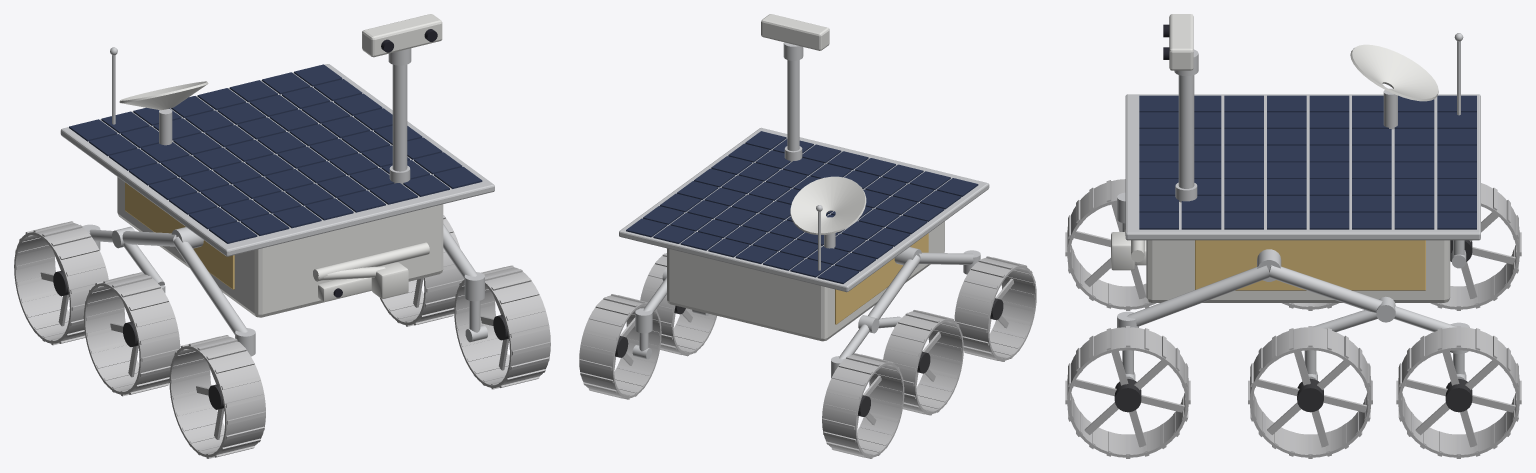
The model's file is rover.glb.
3 views of the same model, side by side, from view 1: azimuth 30°, elevation 25°; view 2: azimuth 150°, elevation 25°; view 3: azimuth 270°, elevation 25° (orthographic). The views are drawn at different scales.
Visible parts, largest first — view 1: solar_cells, chassis, wheel_LF, wheel_LM, wheel_RF, wheel_LR, solar_frame, suspension, front_equipment, wheel_RM, chassis_mli, mast (+3 smaller); view 2: solar_cells, chassis, wheel_LR, wheel_LF, wheel_RR, solar_frame, wheel_LM, suspension, hga_dish, wheel_RM, chassis_mli, mast (+1 smaller); view 3: solar_cells, solar_frame, chassis_mli, wheel_RF, wheel_RR, wheel_RM, suspension, chassis, wheel_LF, wheel_LR, hga_dish, mast (+3 smaller).
Part boxes in pixels (box(x1,y1,x2,y2)): solar_cells: box(69, 64, 482, 243); chassis: box(117, 177, 443, 317); wheel_LF: box(169, 335, 265, 458); wheel_LM: box(83, 272, 180, 396); wheel_RF: box(454, 265, 550, 389); wheel_LR: box(14, 221, 108, 345); solar_frame: box(60, 64, 494, 256); suspension: box(82, 224, 487, 356); front_equipment: box(313, 242, 429, 301); wheel_RM: box(380, 215, 464, 326); chassis_mli: box(125, 182, 234, 289); mast: box(388, 48, 411, 184); solar_cells: box(626, 131, 978, 283); chassis: box(667, 221, 944, 341); wheel_LR: box(822, 353, 904, 458); wheel_LF: box(954, 256, 1036, 361); wheel_RR: box(579, 294, 661, 399); solar_frame: box(619, 127, 989, 292); wheel_LM: box(883, 310, 963, 415); suspension: box(632, 247, 980, 377); hga_dish: box(790, 176, 866, 234); wheel_RM: box(640, 253, 716, 356); chassis_mli: box(835, 233, 928, 324); mast: box(783, 42, 803, 162); solar_cells: box(1139, 95, 1476, 229); solar_frame: box(1125, 94, 1480, 240); chassis_mli: box(1195, 240, 1425, 290); wheel_RF: box(1065, 326, 1190, 458); wheel_RR: box(1396, 326, 1521, 458); wheel_RM: box(1248, 326, 1372, 458); suspension: box(1117, 192, 1469, 380); chassis: box(1146, 240, 1450, 302); wheel_LF: box(1065, 179, 1156, 310); wheel_LR: box(1430, 183, 1521, 310); hga_dish: box(1350, 44, 1438, 101); mast: box(1174, 49, 1198, 202).
Size of the model in its own units: 1.64 by 1.72 by 1.87.
